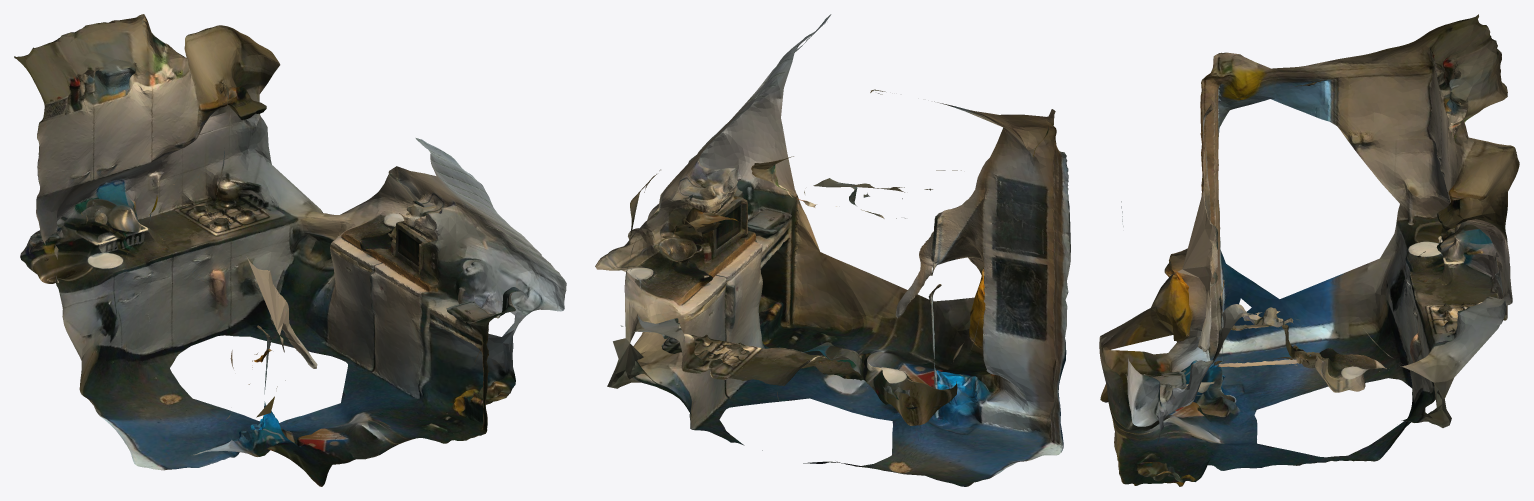
3 views of the same model, side by side, from view 1: azimuth 30°, elevation 25°; view 2: azimuth 150°, elevation 25°; view 3: azimuth 270°, elevation 25° (orthographic). The views are drawn at different scales.
Size of the model in its own units: 2.76 by 2.27 by 2.6.
1 material, 1 textured.
